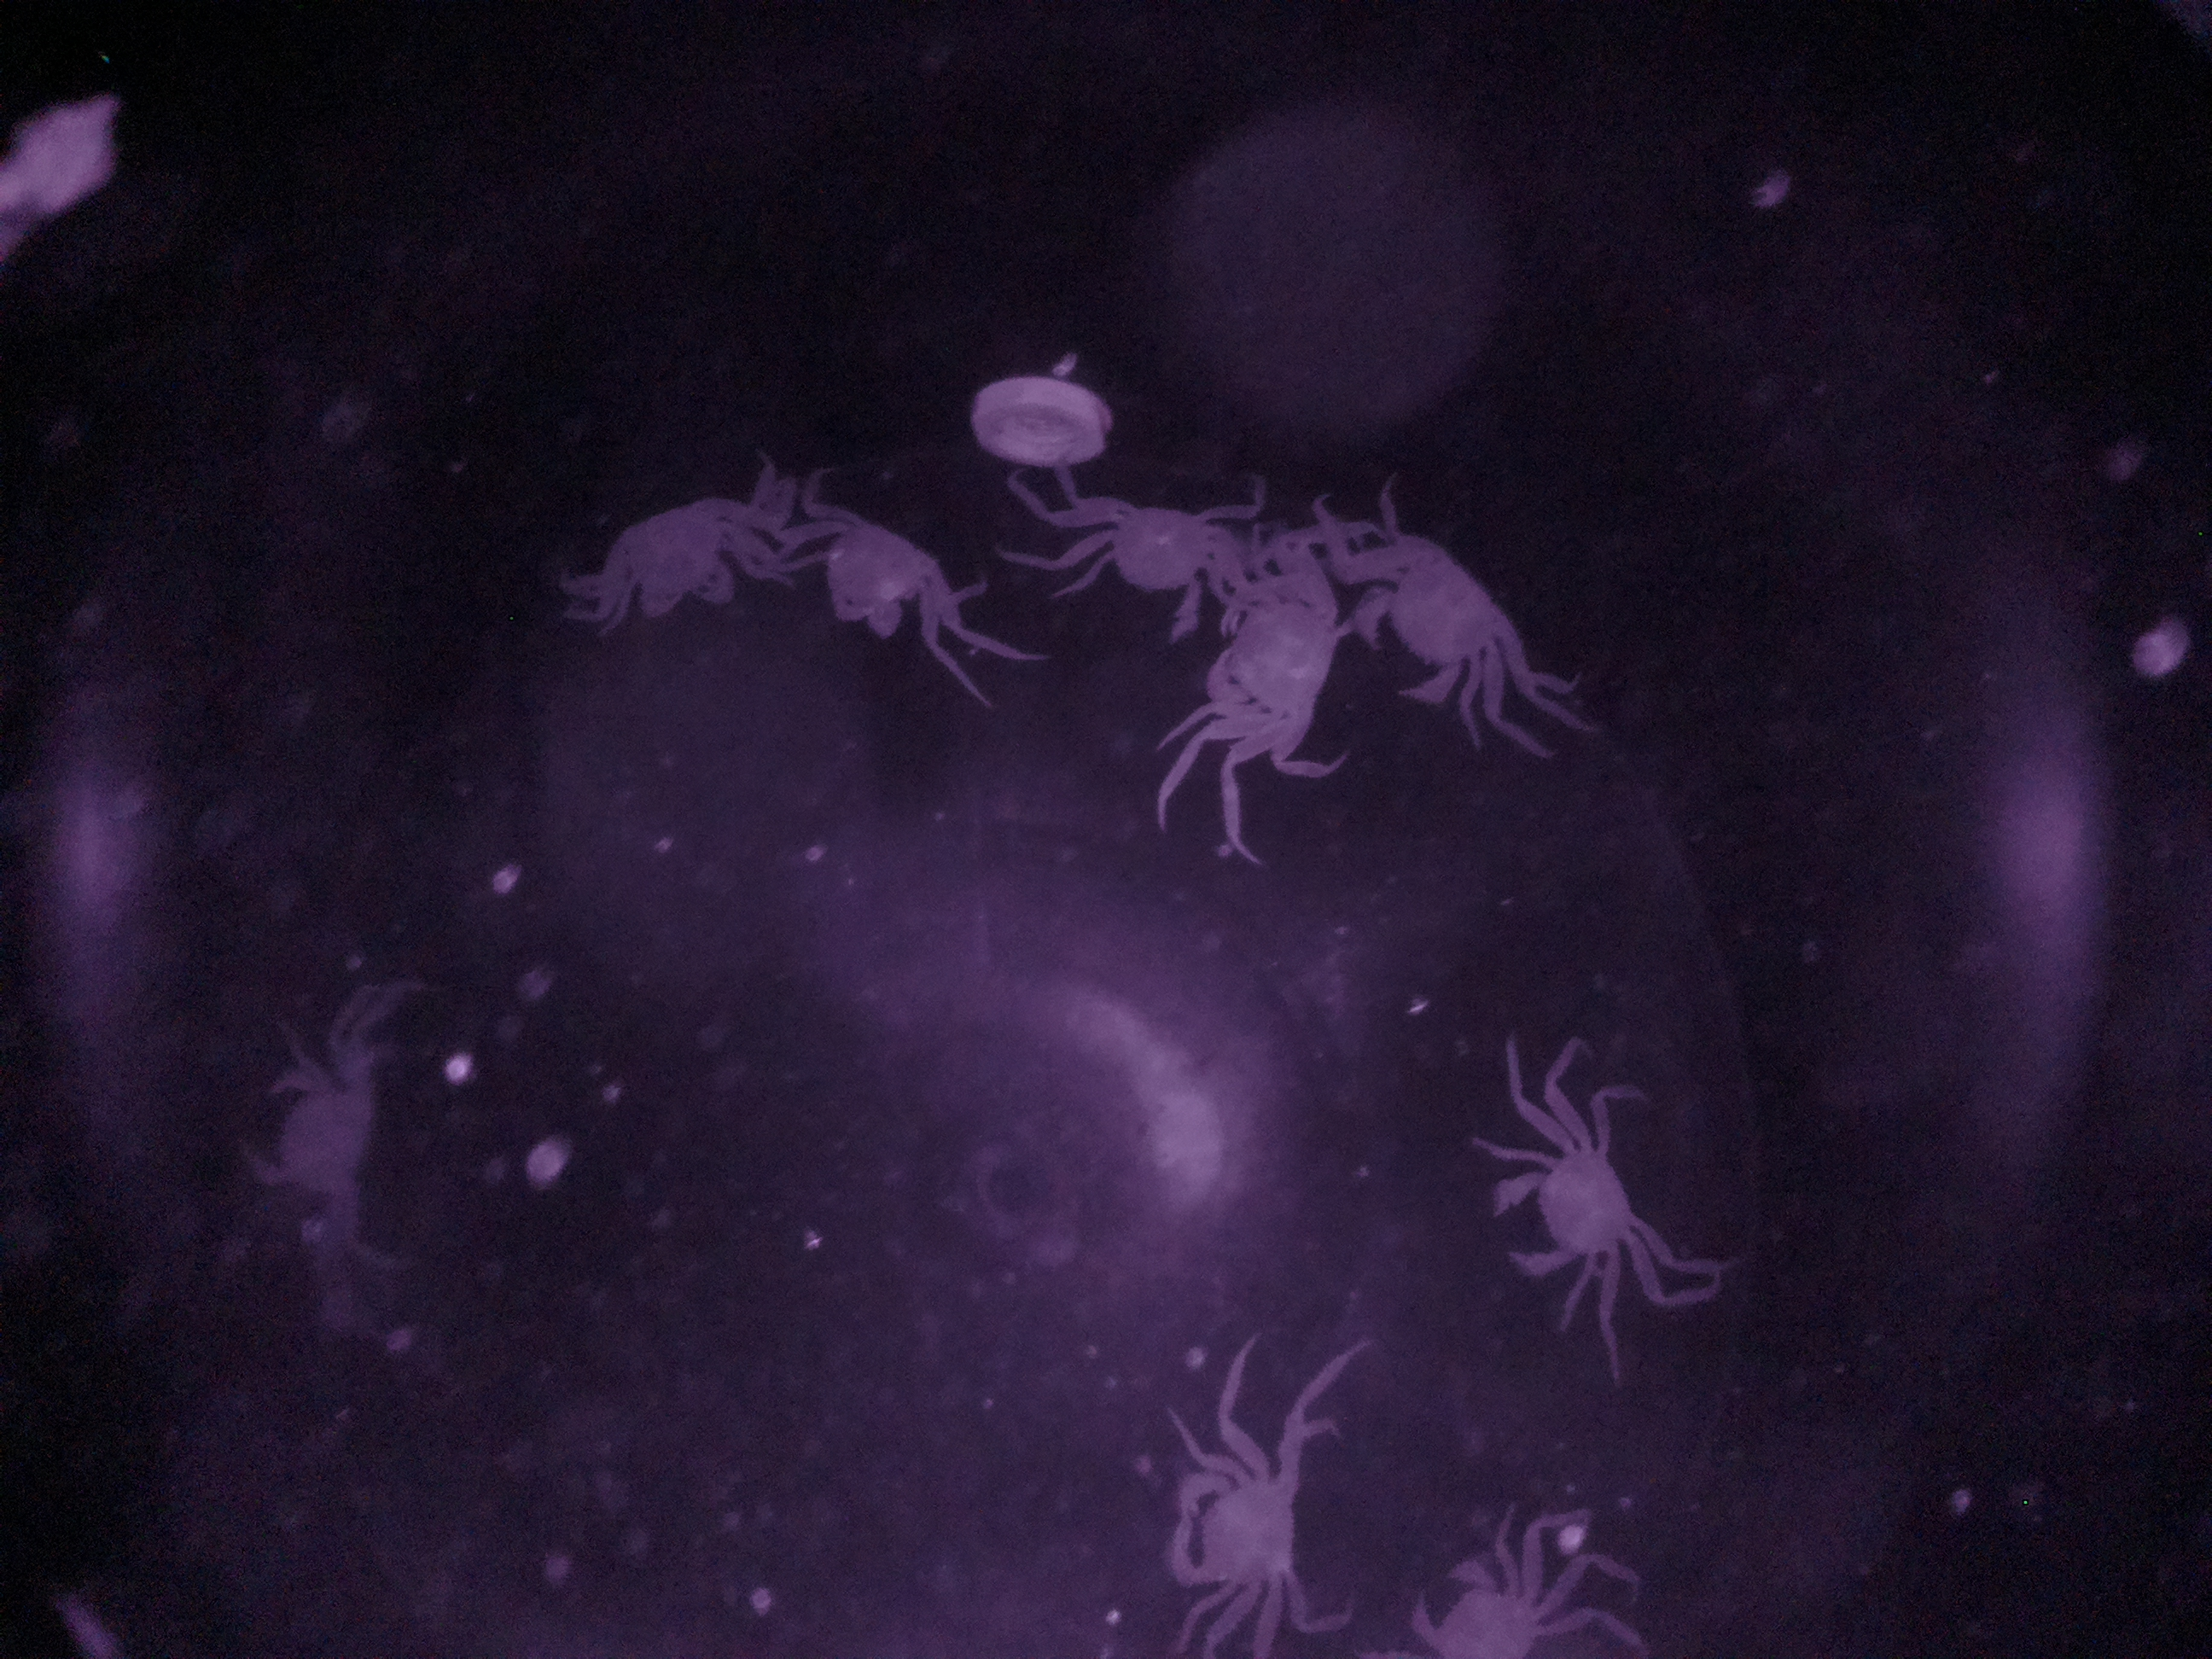Crab: (1339, 497, 1534, 742), (1150, 1401, 1336, 1635), (1475, 1098, 1665, 1312), (1042, 462, 1237, 655), (589, 477, 787, 660), (798, 486, 974, 678)
